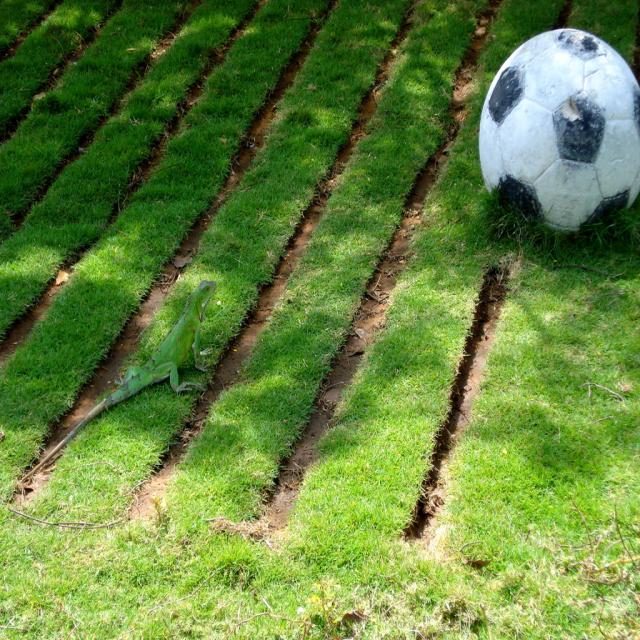ball: (473, 24, 640, 243)
